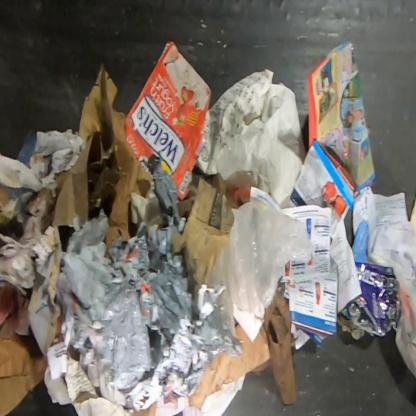cardboard: (125, 39, 212, 200), (171, 170, 260, 301), (188, 323, 271, 412), (0, 332, 48, 416)
soft_plastic: (208, 202, 313, 338), (340, 261, 402, 338)
